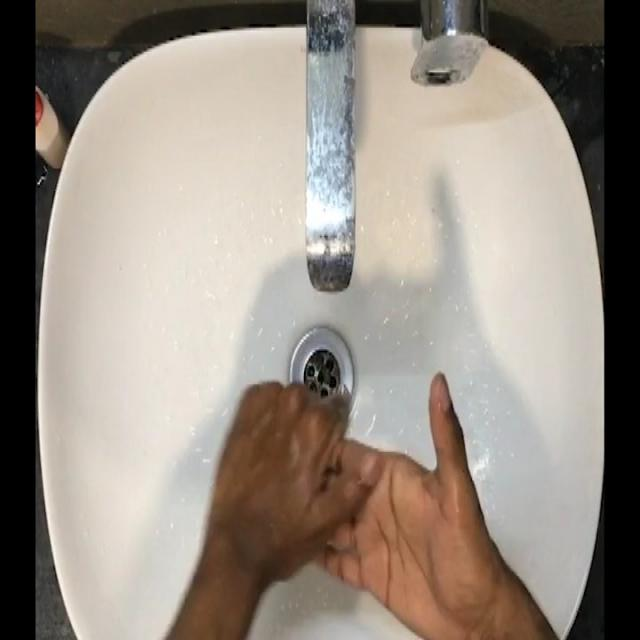step_5: (214, 368, 480, 632)
